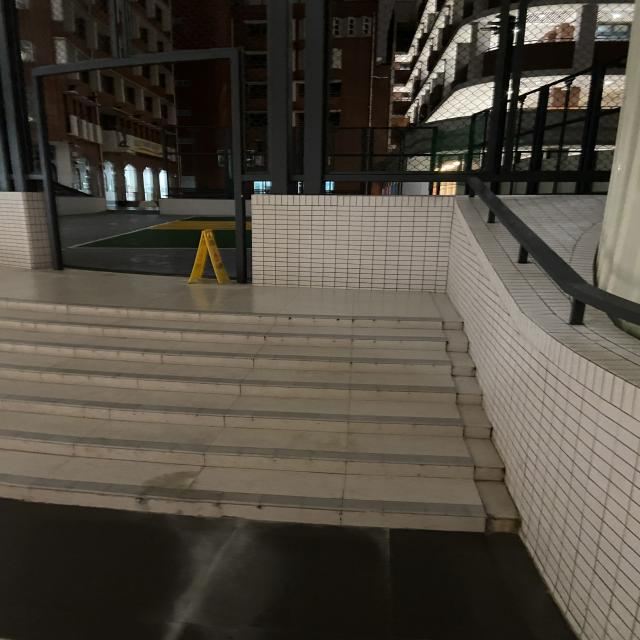Stairs: (0, 295, 534, 541)
